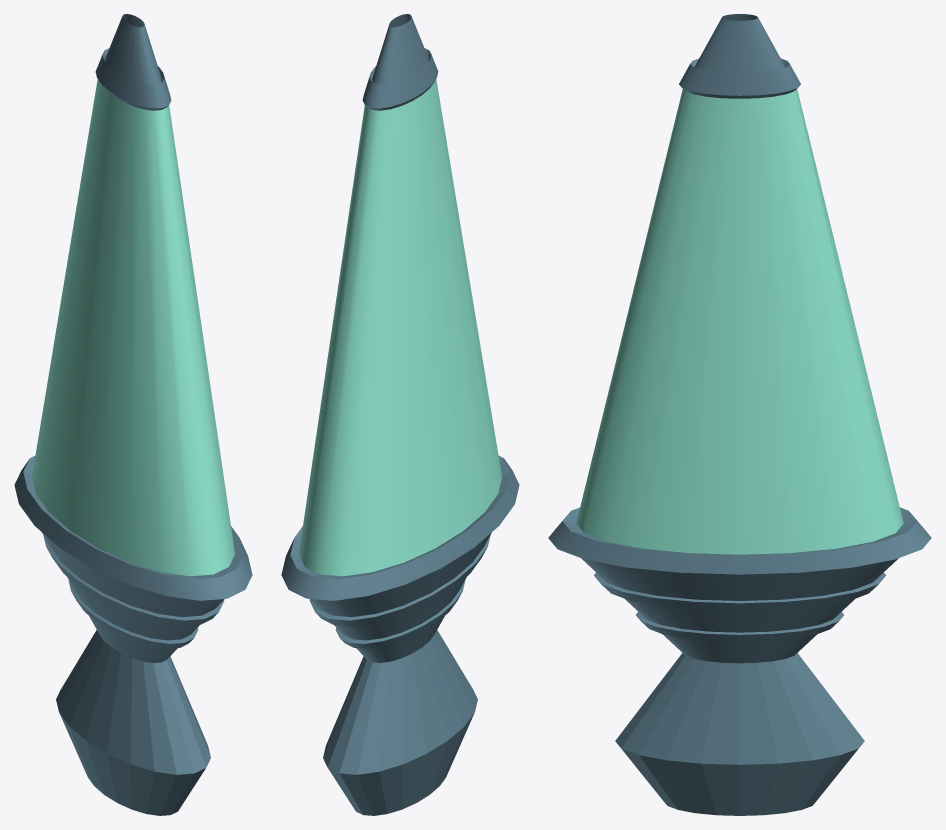
Rendered from Cream_Bag.fbx.
3 views of the same model, side by side, from view 1: azimuth 30°, elevation 25°; view 2: azimuth 150°, elevation 25°; view 3: azimuth 270°, elevation 25° (orthographic). The views are drawn at different scales.
Visible parts, largest first — view 1: pCone1; view 2: pCone1; view 3: pCone1.
Part boxes in pixels (x1,y1,x2,y2): pCone1: (14, 14, 252, 815); pCone1: (281, 14, 519, 815); pCone1: (548, 14, 931, 815).
Size of the model in its own units: 0.3813 by 1.9 by 0.844.
